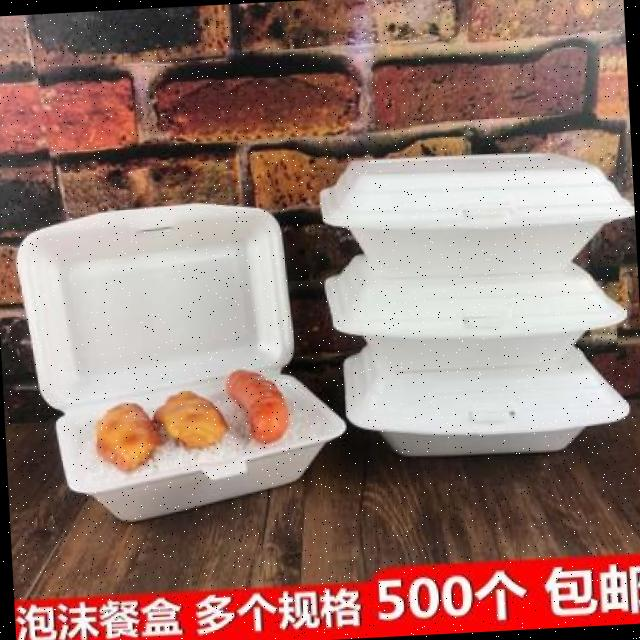styrofoam: (12, 193, 350, 528), (315, 142, 640, 465)
